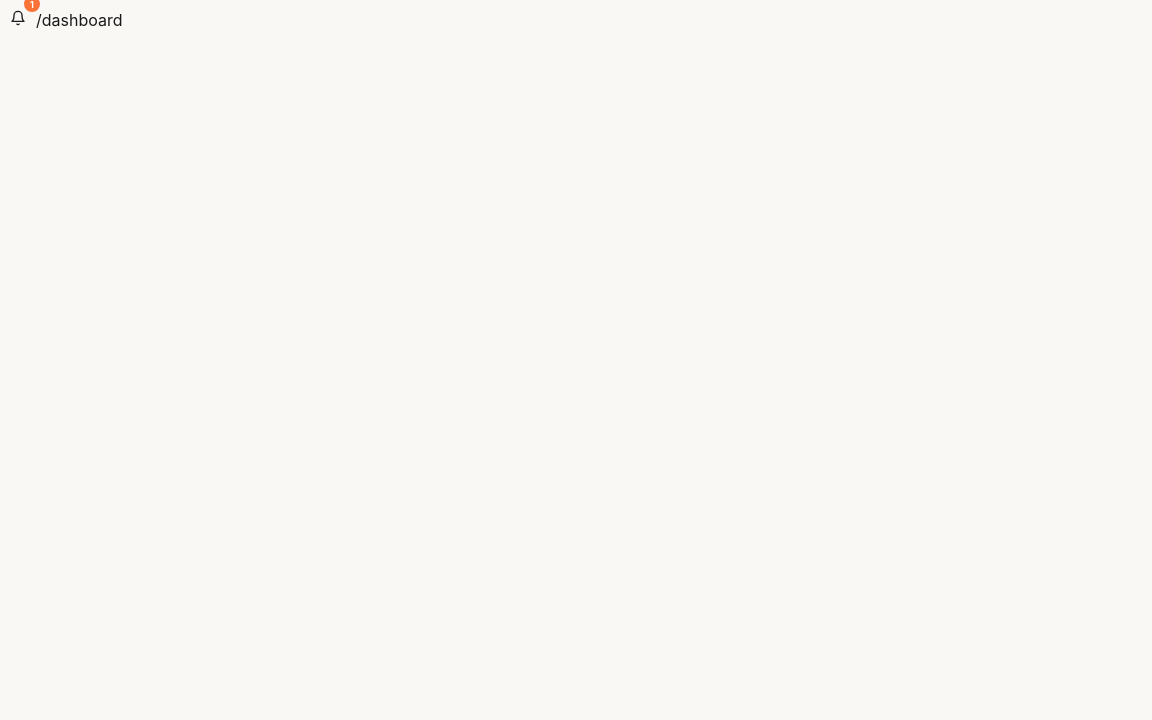
Test: AllocationNotificationsBell › navigates a reply notification to its exact thread target
The width and height of the screenshot is (1152, 720).
Click the button named "Уведомления: 1" at (18, 18), box [0,0,36,36]
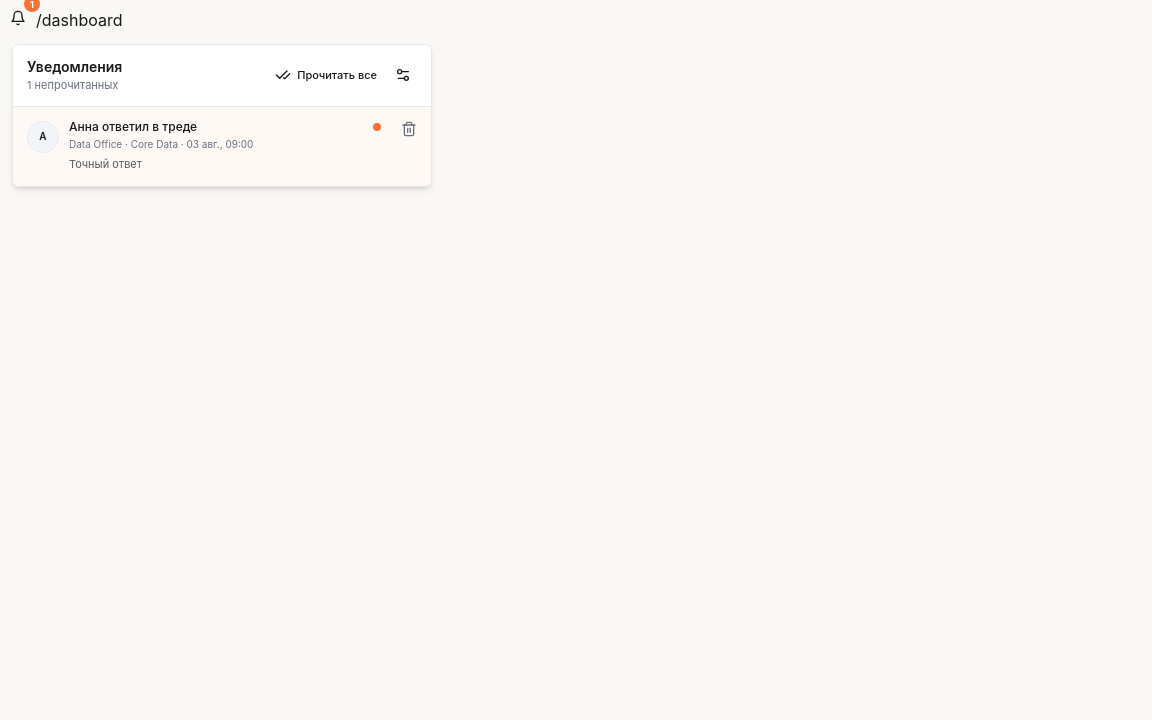
Click the text "Точный ответ" at (105, 164), box [69,157,142,171]
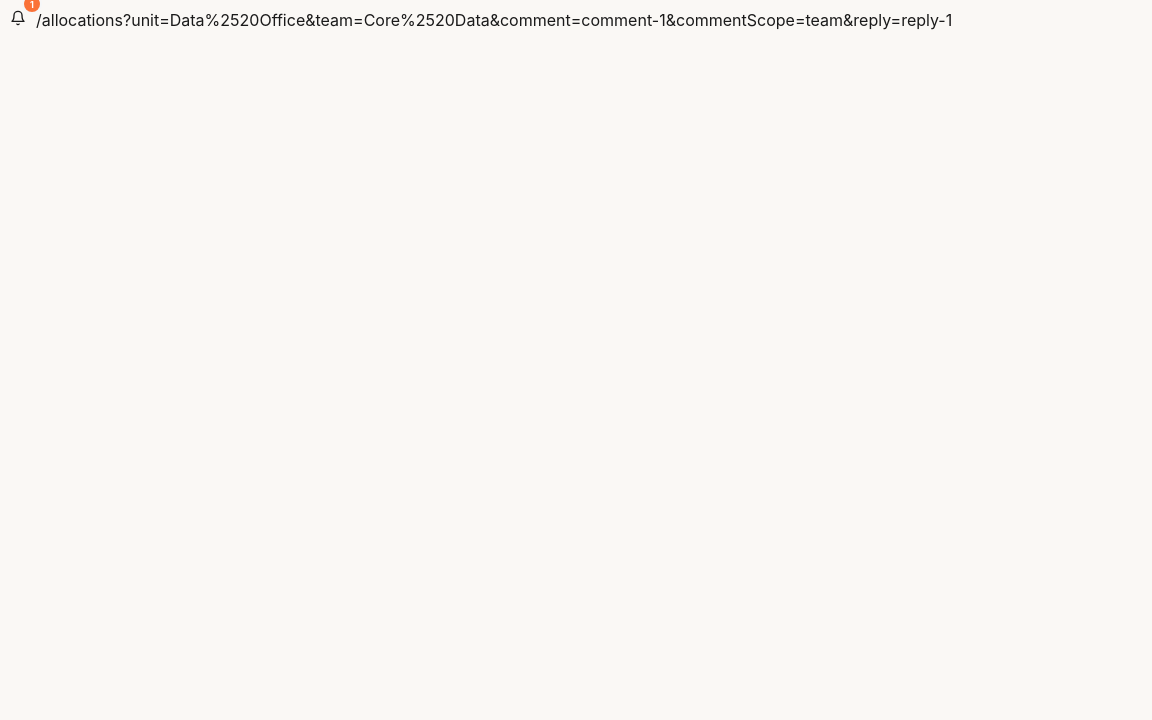
Expected: the text with test id "location" shows "/allocations?", [36,10,123,30]
